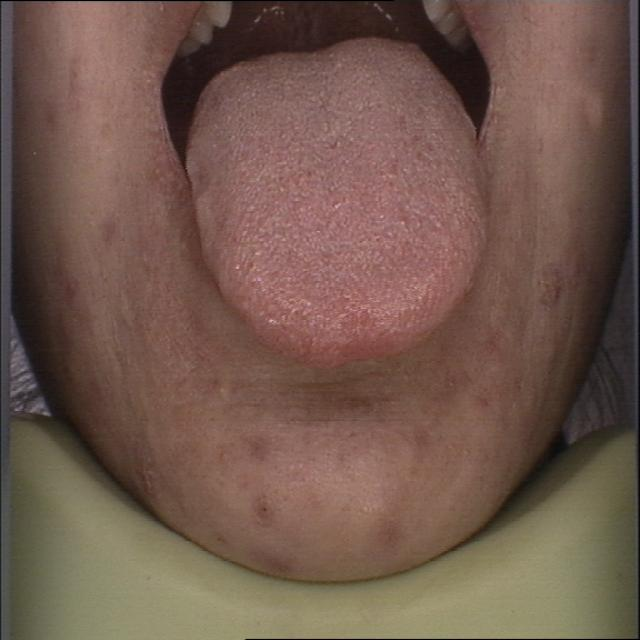baitaishe: (183, 35, 494, 367)
